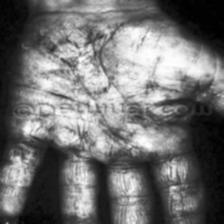Non-Cancerous Skin Condition: (0, 119, 195, 224), (34, 18, 168, 100), (176, 57, 224, 111)
